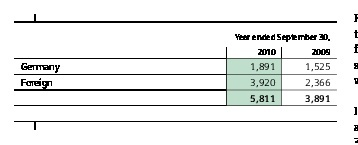table: (0, 0, 358, 145)
